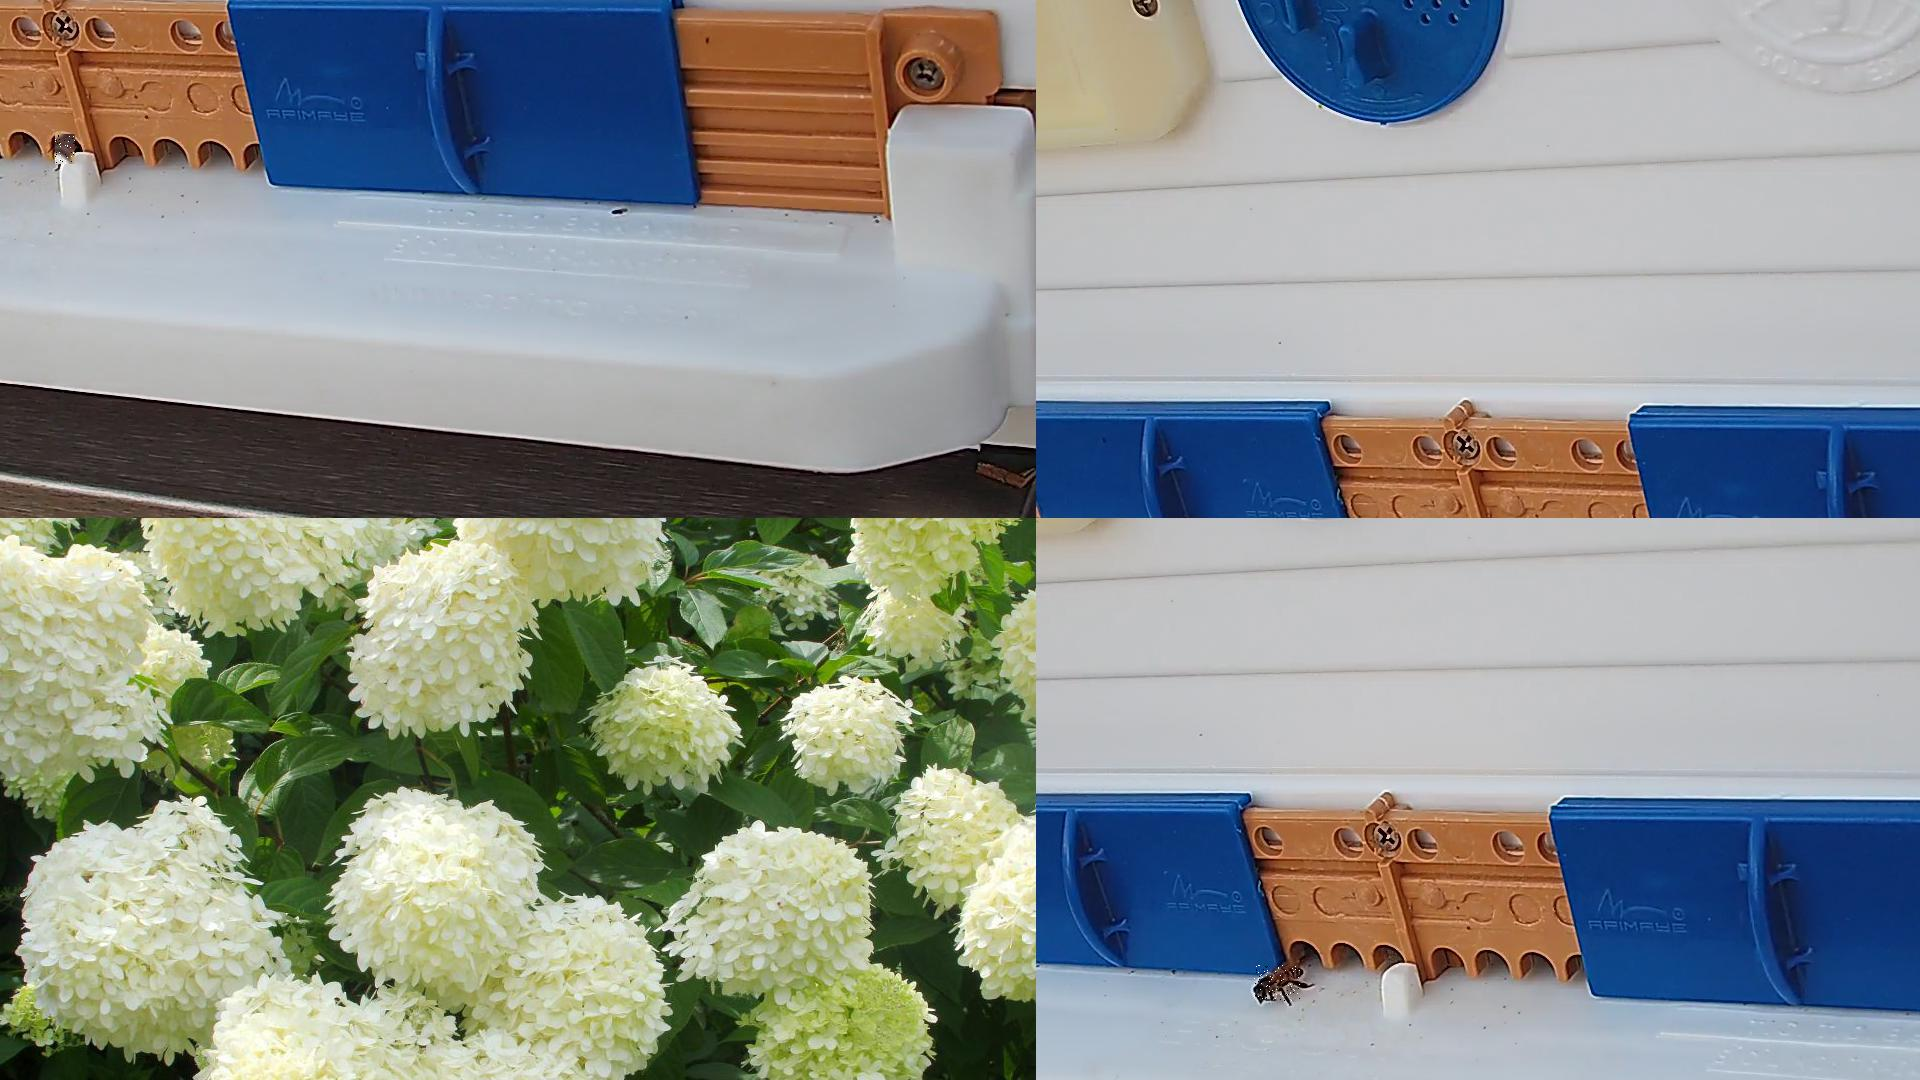bee: (1254, 965, 1302, 1002)
pollenbee: (55, 135, 76, 165)
